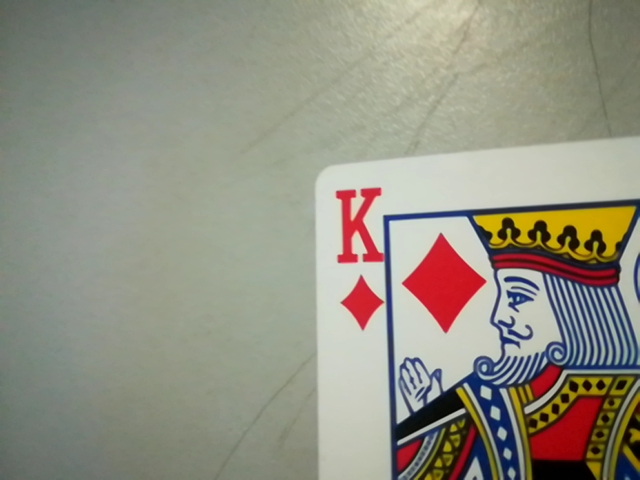fk k: (324, 176, 391, 331)
